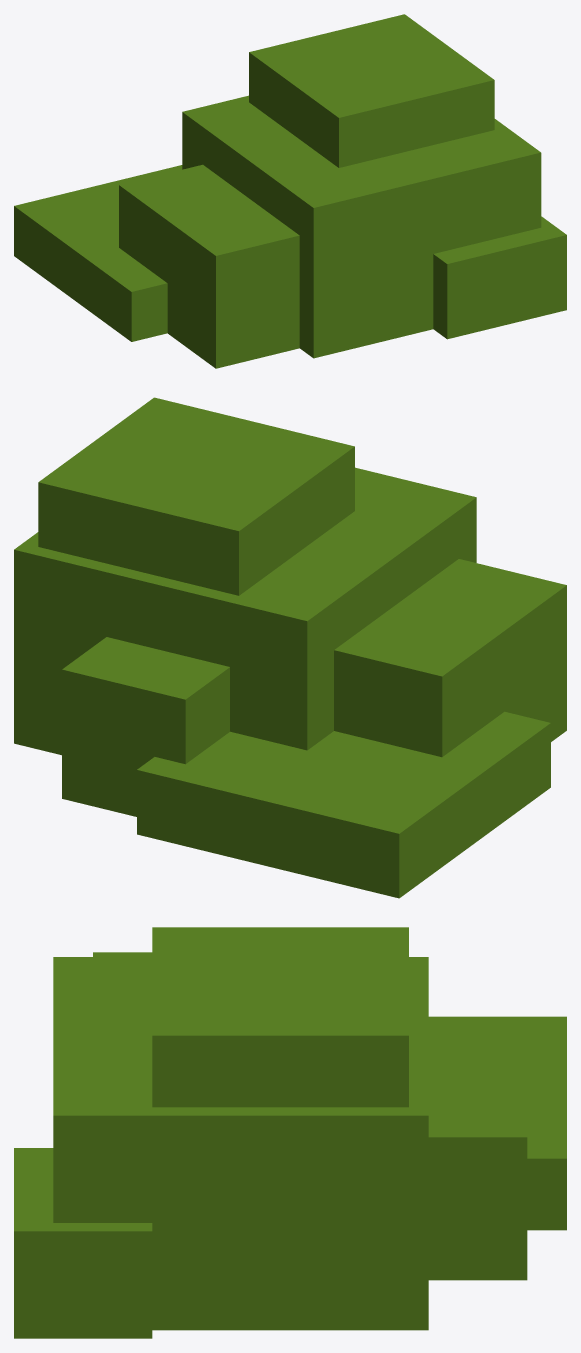
Rendered from bush_1.gltf.
The picture shows the model from 3 angles, top to bottom: view 1: azimuth 30°, elevation 25°; view 2: azimuth 150°, elevation 25°; view 3: azimuth 270°, elevation 25°; orthographic projection. The views are drawn at different scales.
Parts seen in each view (by area): view 1: Node1; view 2: Node1; view 3: Node1.
Part boxes in pixels (x1,y1,x2,y2): Node1: (14, 14, 566, 368); Node1: (14, 397, 566, 898); Node1: (14, 927, 566, 1338).
Bounding box in the file's own units: 3 × 1.6 × 2.8.
1 material, 1 textured.
